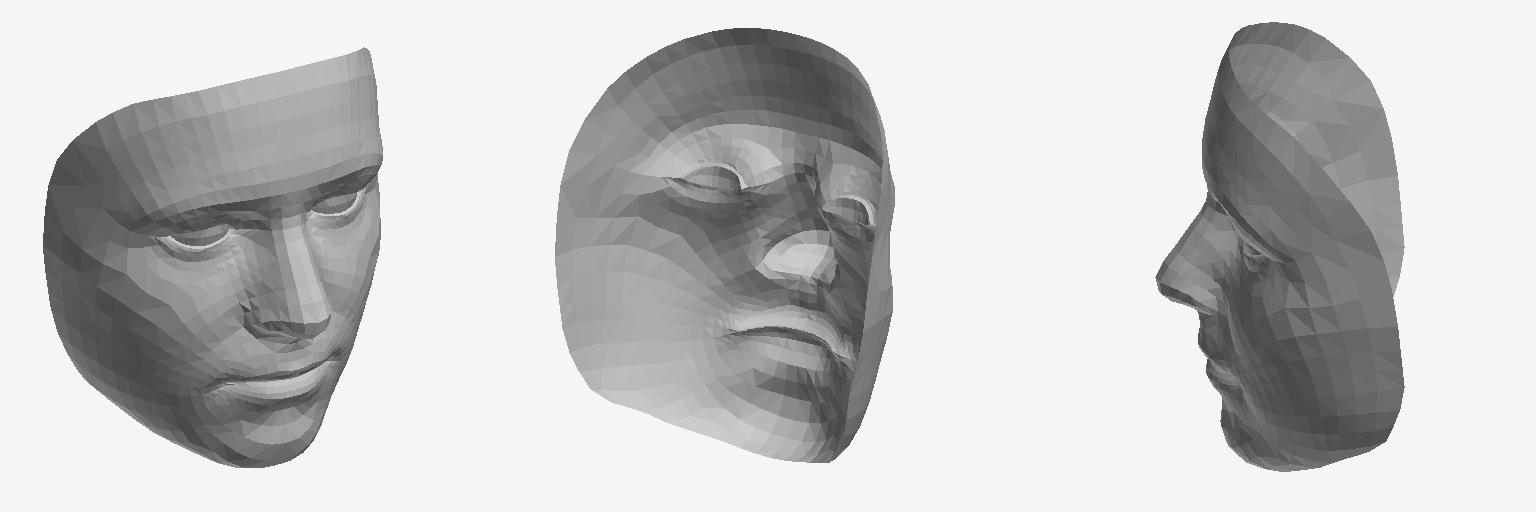
The model's file is head3Mesh.obj.
3 renders of one model, left to right at view 1: azimuth 30°, elevation 25°; view 2: azimuth 150°, elevation 25°; view 3: azimuth 270°, elevation 25°, orthographic.
Visible parts, largest first — view 1: faceMesh; view 2: faceMesh; view 3: faceMesh.
Part boxes in pixels (x1,y1,x2,y2): faceMesh: (43, 47, 382, 467); faceMesh: (555, 28, 894, 462); faceMesh: (1155, 22, 1404, 471).
Bounding box in the file's own units: 0.1493 × 0.1865 × 0.1035.